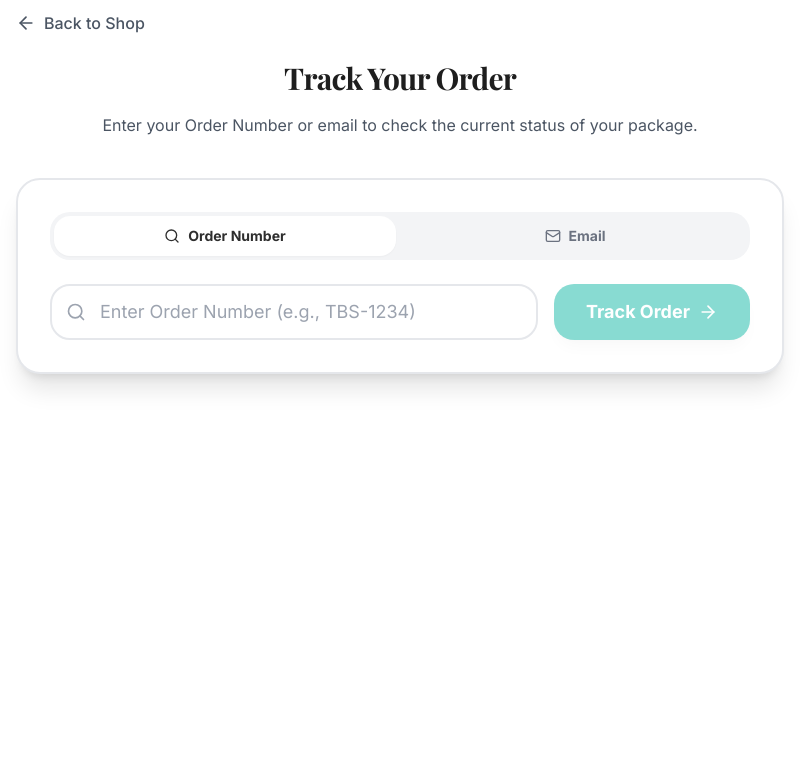
Test: OrderTracking › additional payment › prompts for the balance and submits a new receipt
Type "TBS-1234" into the field with placeholder "Enter Order Number (e.g., TBS-1234)" at (294, 312), box [50,284,538,340]
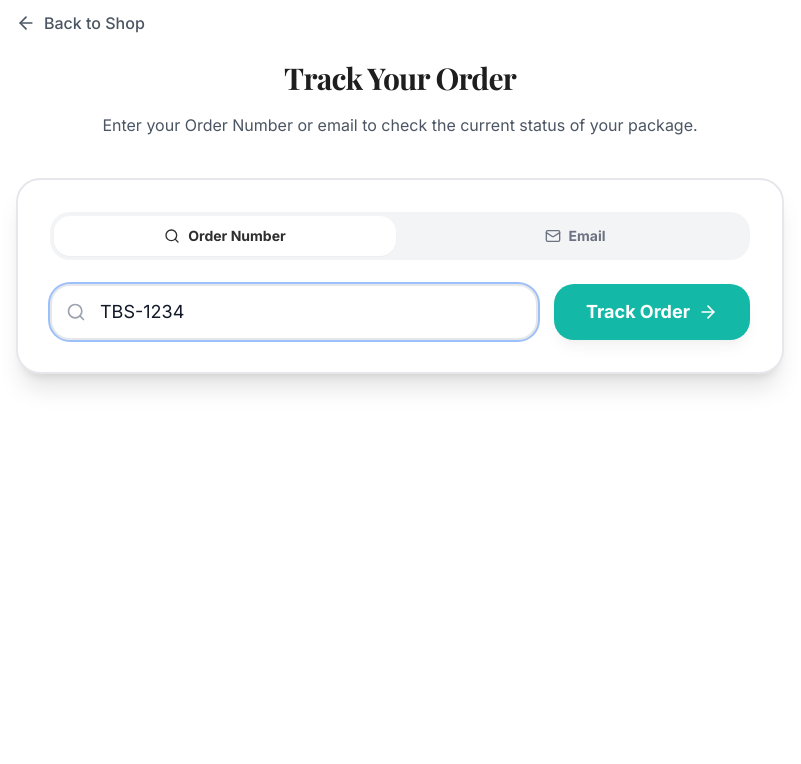
Click the button "Track Order" at (652, 312), box [554,284,750,340]
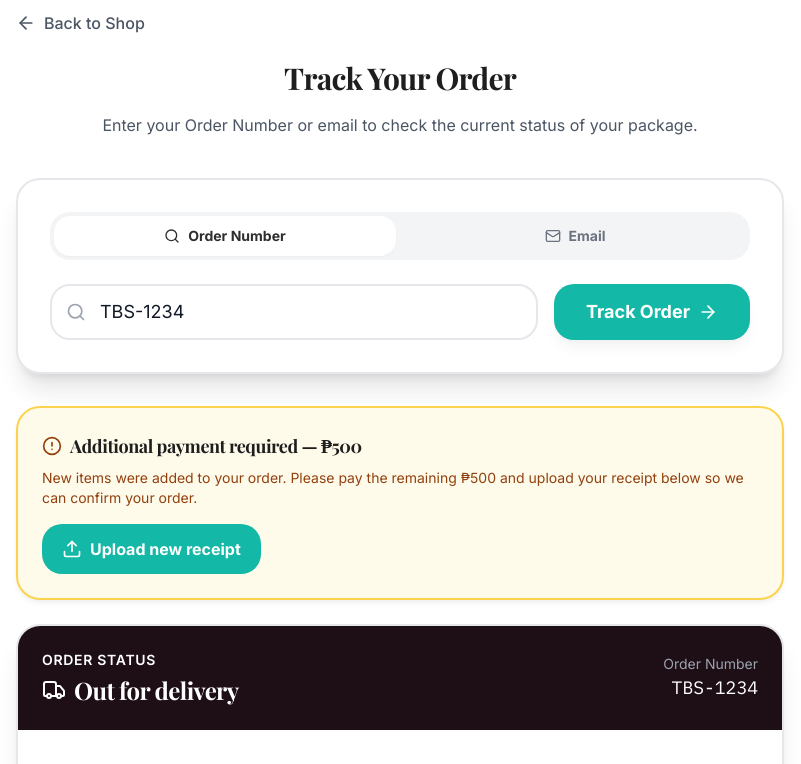
Check: the heading "Additional payment required — ₱500" is shown, box [70,432,362,460]
